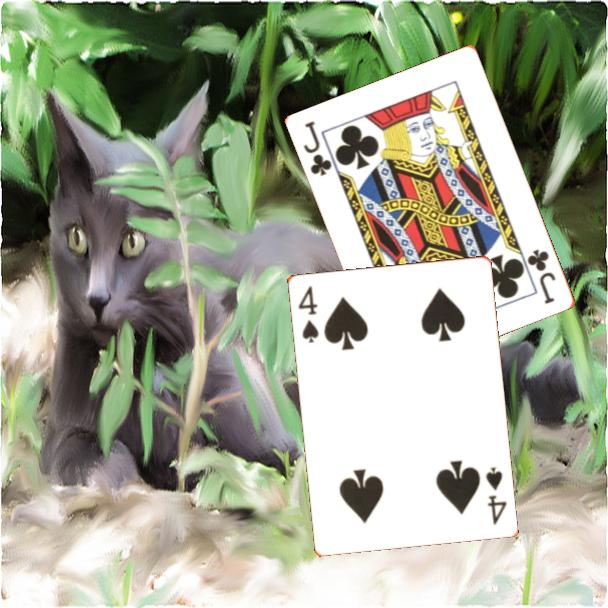c11: (524, 246, 559, 307), (300, 118, 335, 179)
s04: (482, 463, 509, 527), (294, 282, 321, 345)
